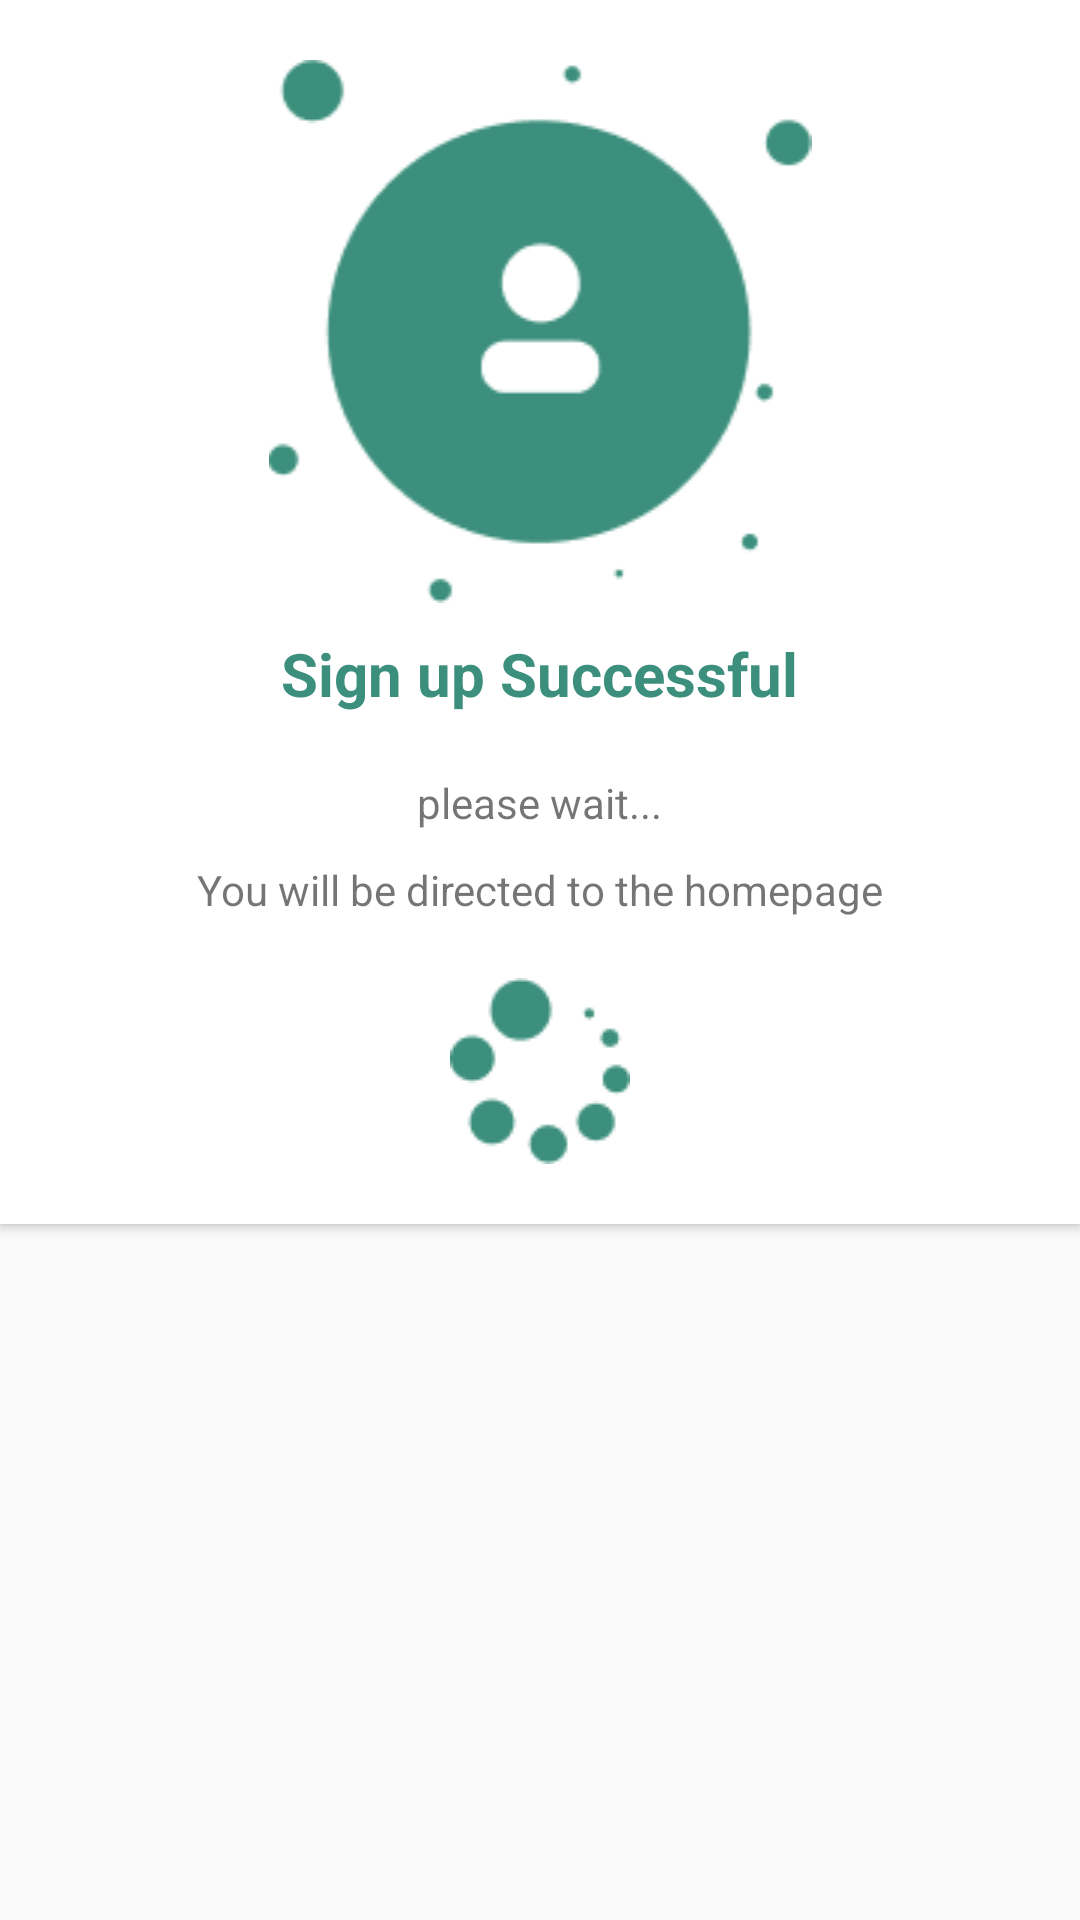

Named icons in this screenshot (1080×1920) and their centers, [x,y]:
processing: [540,1071]
